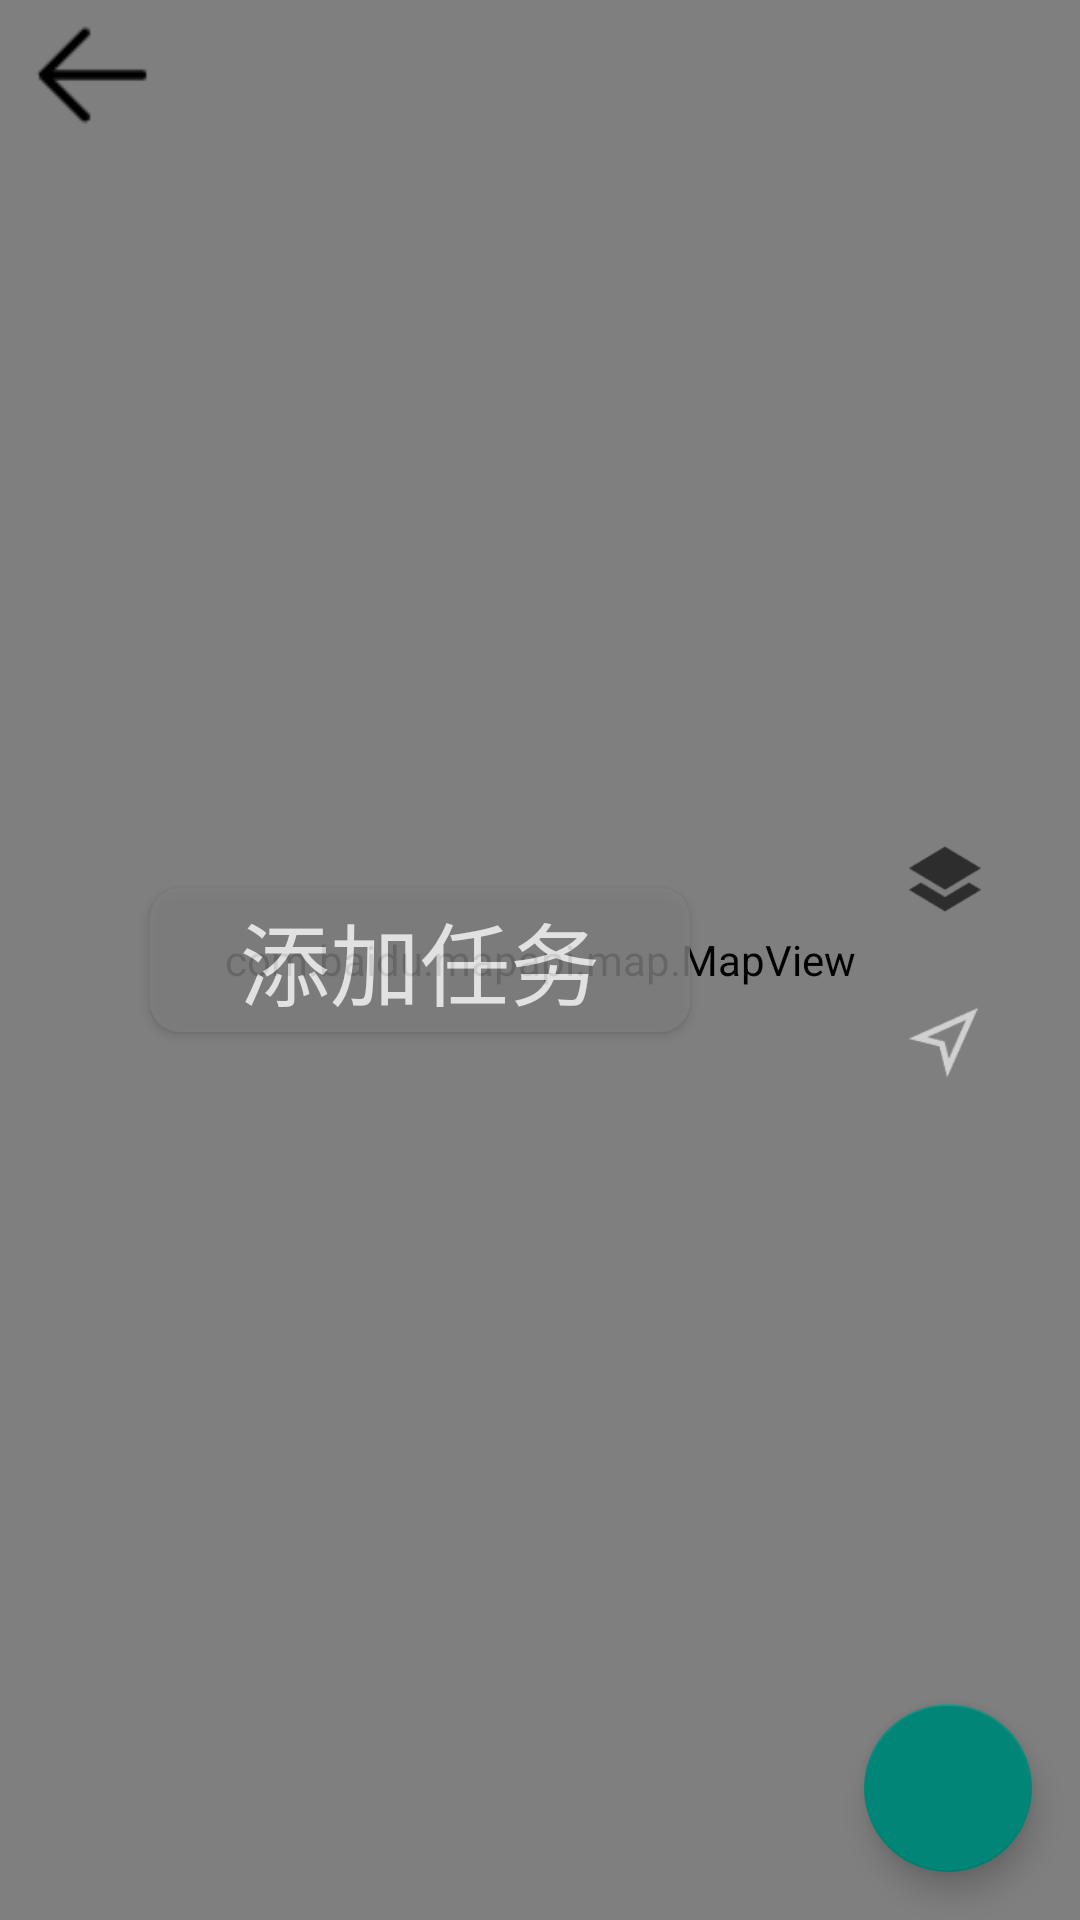

Locate icon controls on the screen. Image size 1080w x 1920h, boxes as (x1, y1, x2, y2).
back: (38, 27, 147, 123)
layers: (909, 847, 981, 911)
